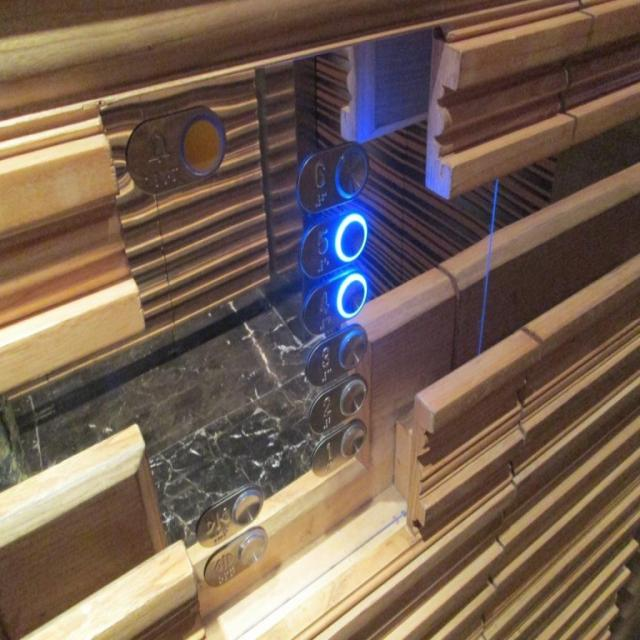1: (310, 416, 370, 476)
2: (308, 373, 369, 434)
3: (304, 321, 370, 386)
4: (302, 265, 369, 336)
5: (298, 206, 370, 276)
6: (296, 138, 369, 211)
alarm: (126, 100, 226, 193)
close: (194, 480, 265, 548)
open: (200, 522, 268, 590)
